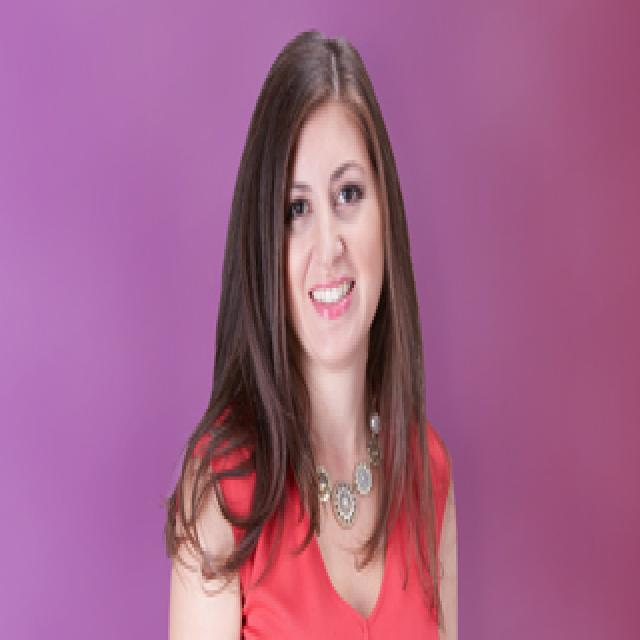mobile_phonerotation: (162, 25, 462, 636)
